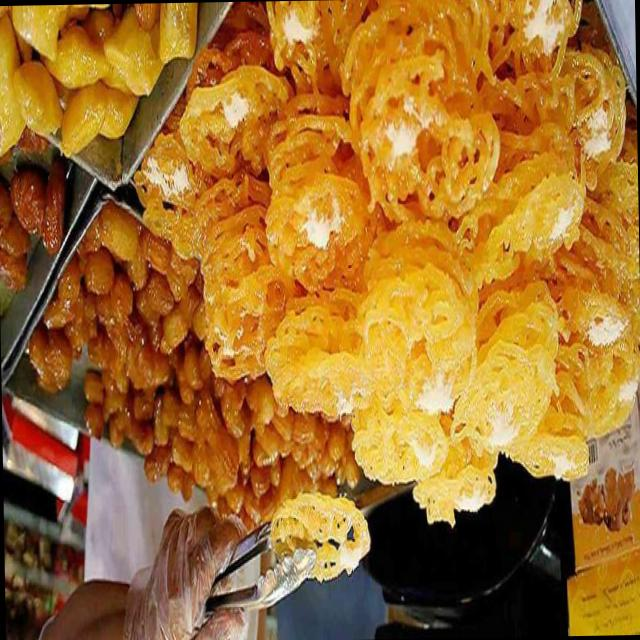jalebi: (196, 0, 635, 509), (258, 493, 376, 620)
